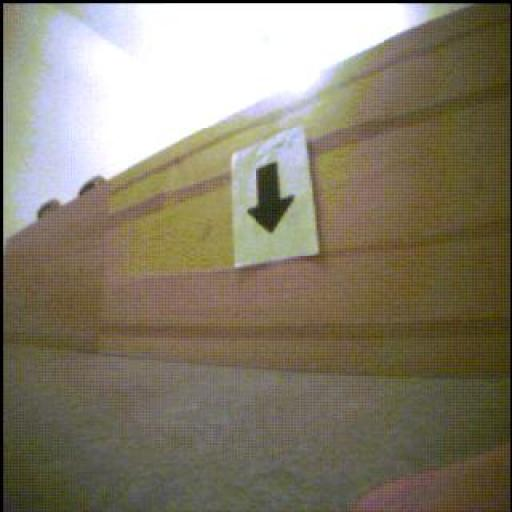arrow: (249, 164, 295, 233)
